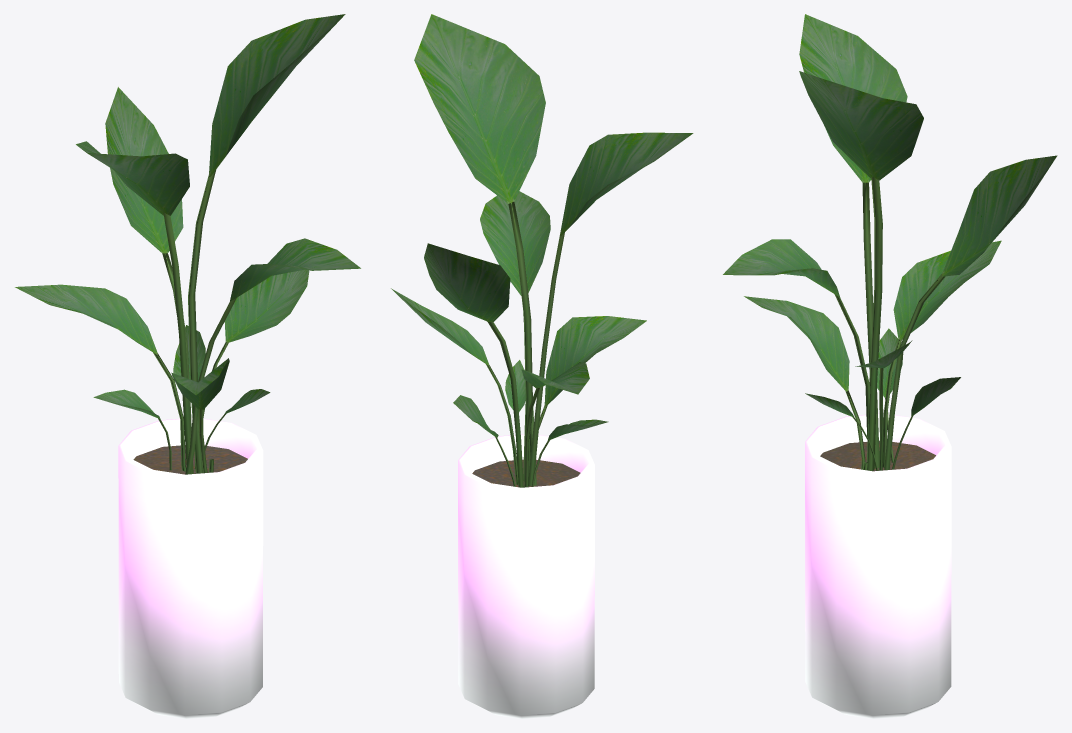
The model's file is Cylinder_table.fbx.
3 views of the same model, side by side, from view 1: azimuth 30°, elevation 25°; view 2: azimuth 150°, elevation 25°; view 3: azimuth 270°, elevation 25° (orthographic). The views are drawn at different scales.
Visible parts, largest first — view 1: CylinderPlant; view 2: CylinderPlant; view 3: CylinderPlant.
Boxes of the visible parts, box(x1,y1,x2,y2) form: CylinderPlant: box(15, 14, 360, 718); CylinderPlant: box(391, 14, 693, 718); CylinderPlant: box(723, 14, 1057, 718).
Size of the model in its own units: 68.85 by 161 by 72.13.
1 material, 1 textured.
